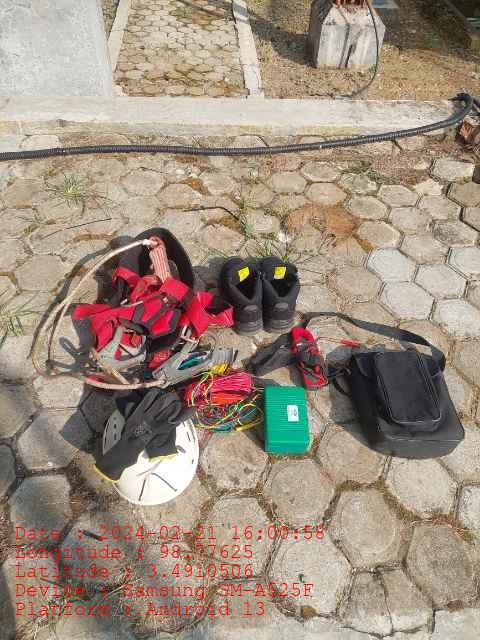SARUNG TANGAN: (93, 388, 195, 480)
TAMBANG_SLING: (71, 270, 226, 384)
